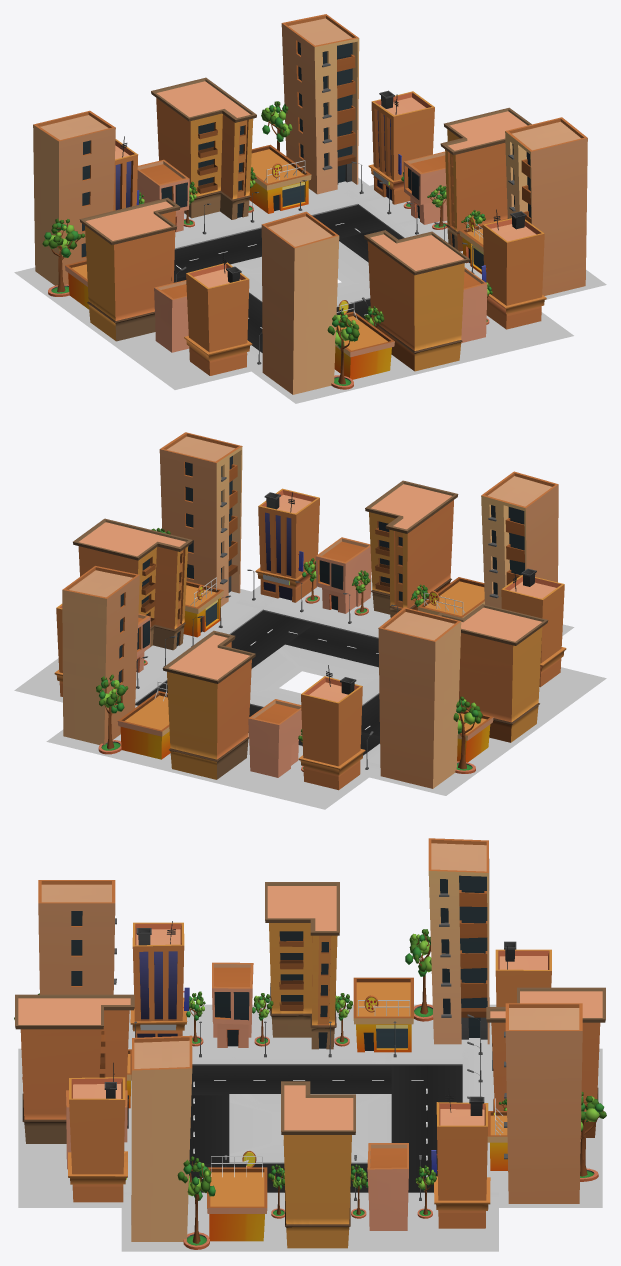
File: Environment.fbx
3 renders of one model, top to bottom at view 1: azimuth 30°, elevation 25°; view 2: azimuth 150°, elevation 25°; view 3: azimuth 270°, elevation 25°, orthographic. The views are drawn at different scales.
Visible parts, largest first — view 1: Environment.003; view 2: Environment.003; view 3: Environment.003.
Part boxes in pixels (x1,y1,x2,y2): Environment.003: (14,14,606,403); Environment.003: (14,432,606,809); Environment.003: (14,838,606,1251).
Bounding box in the file's own units: 48.41 × 16.02 × 48.41.
